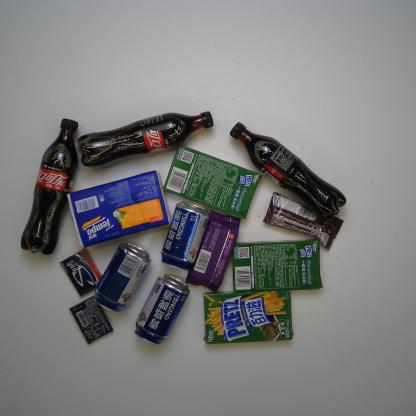Alcohol: (93, 241, 151, 313), (134, 273, 190, 346), (160, 200, 211, 271)
Chocolate: (262, 192, 344, 250)
Dessert: (162, 144, 264, 220), (232, 238, 324, 294), (202, 290, 294, 345), (184, 209, 240, 294)
Drink: (229, 122, 347, 222), (20, 118, 79, 256), (77, 111, 214, 168)
Gum: (69, 294, 114, 345), (60, 247, 102, 298)
Tissue: (66, 170, 172, 248)
